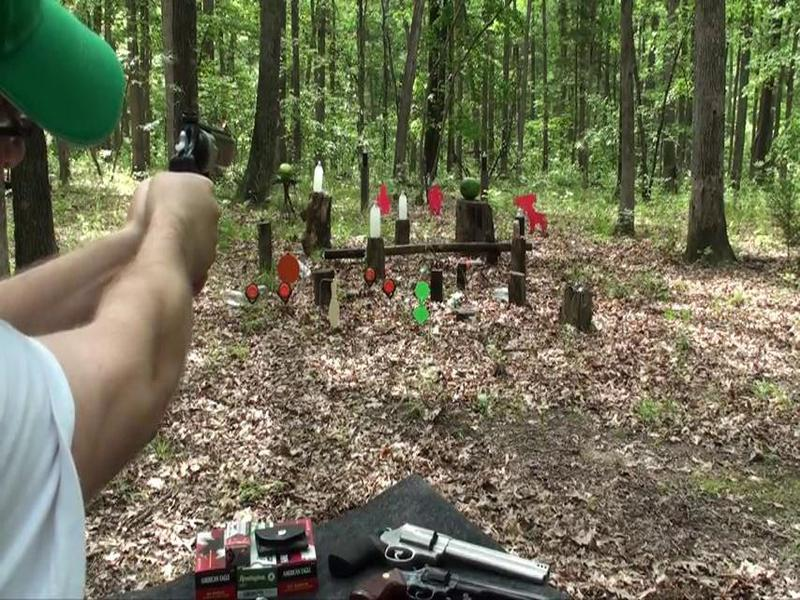Revolver: (160, 104, 251, 225)
